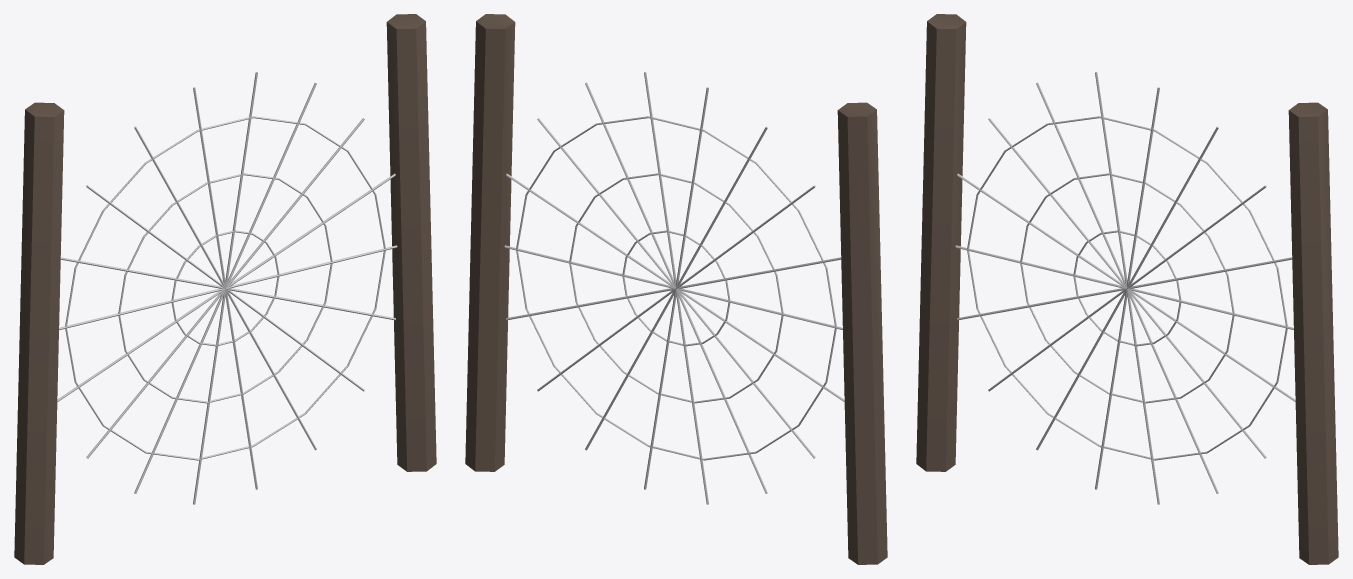
The model's file is Thread_Web.fbx.
3 renders of one model, left to right at view 1: azimuth 30°, elevation 25°; view 2: azimuth 150°, elevation 25°; view 3: azimuth 330°, elevation 25°, orthographic.
Visible parts, largest first — view 1: Res_Thread_Web; view 2: Res_Thread_Web; view 3: Res_Thread_Web.
Boxes of the visible parts, x1,y1,x2,y2 form: Res_Thread_Web: (14, 14, 436, 564); Res_Thread_Web: (465, 14, 887, 564); Res_Thread_Web: (916, 14, 1338, 564).
Size of the model in its own units: 1.94 by 2 by 0.16.
